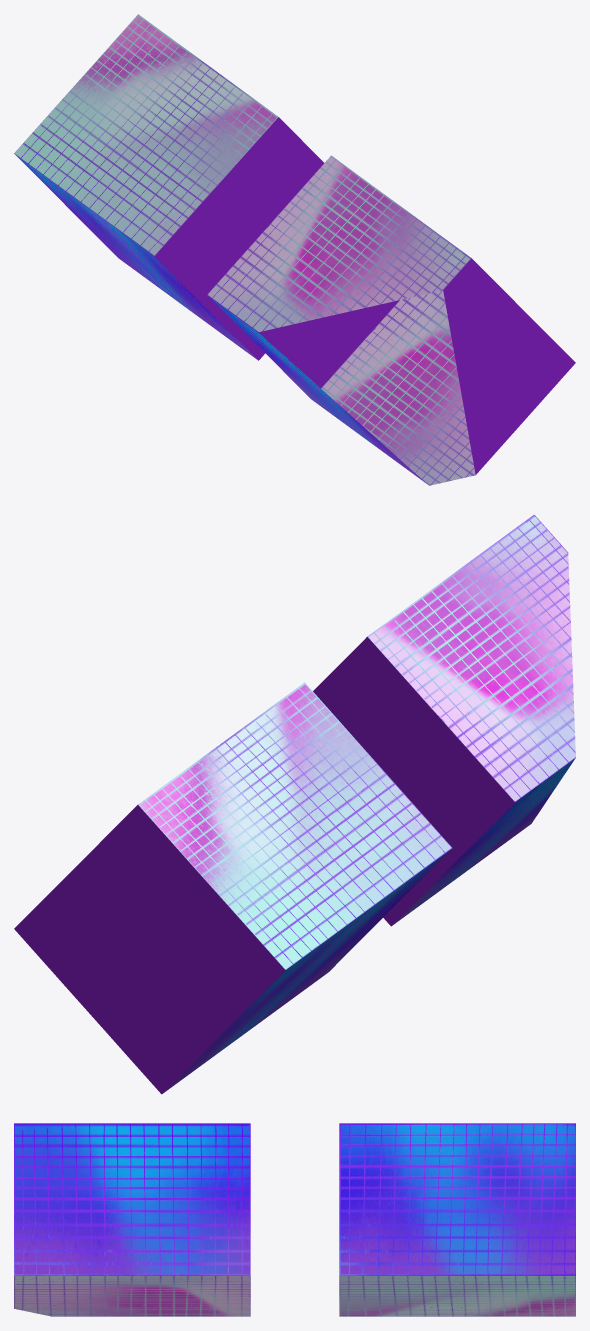
Rendered from Build_B_all.obj.
The picture shows the model from 3 angles, top to bottom: view 1: azimuth 30°, elevation 25°; view 2: azimuth 150°, elevation 25°; view 3: azimuth 270°, elevation 25°; orthographic projection. The views are drawn at different scales.
Parts seen in each view (by area): view 1: Build_B_Bot, Build_B_Top; view 2: Build_B_Top, Build_B_Bot; view 3: Build_B_Top, Build_B_Bot.
Part boxes in pixels (x1,y1,x2,y2): Build_B_Bot: (207,155,575,485); Build_B_Top: (14,14,323,360); Build_B_Top: (14,682,452,1094); Build_B_Bot: (313,514,575,926); Build_B_Top: (339,1123,575,1316); Build_B_Bot: (14,1123,250,1316).
Size of the model in its own units: 0.372 by 0.3719 by 0.9403.
Materials: 1 (1 with a texture image).
